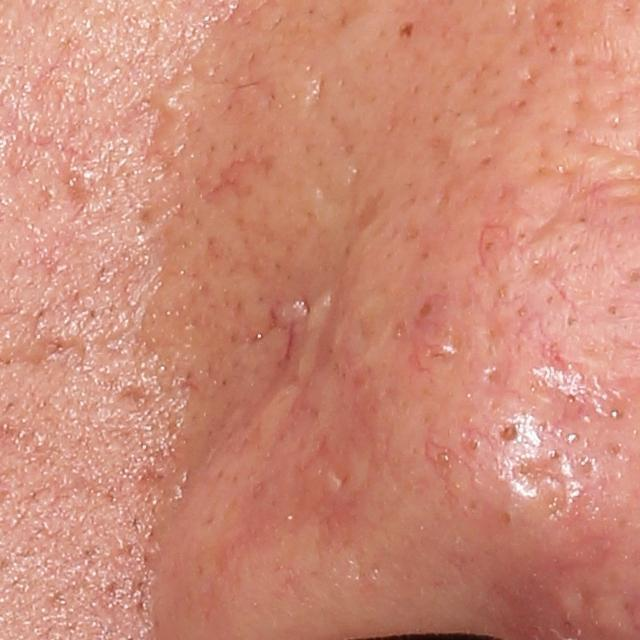atrophic_scar: (513, 149, 618, 255), (255, 291, 313, 416), (501, 449, 578, 505), (0, 331, 81, 372), (212, 148, 280, 191), (304, 76, 329, 112)
comedo: (156, 87, 183, 118)
